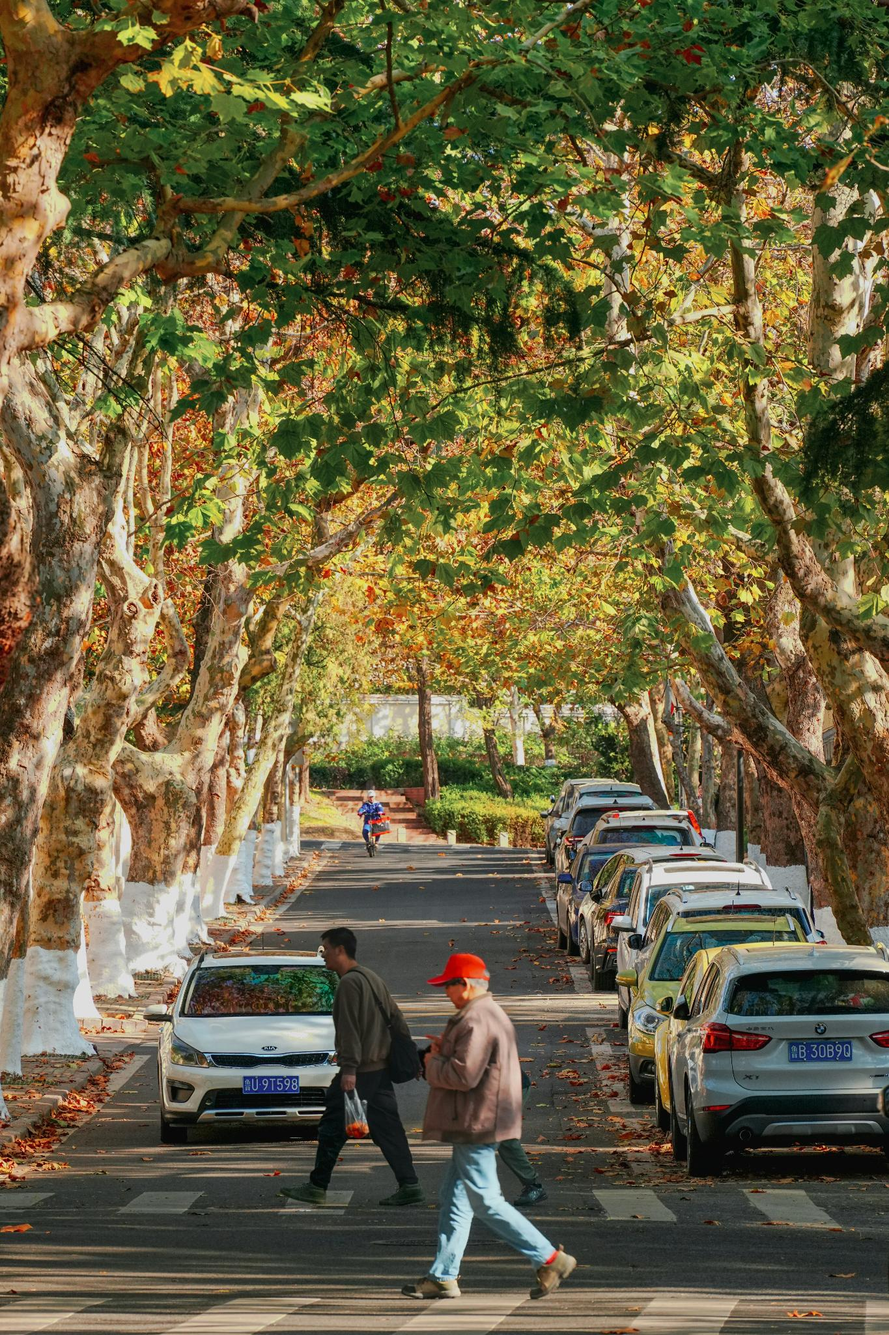car: (654, 956, 889, 1173), (167, 952, 344, 1142), (632, 920, 817, 1089), (620, 892, 817, 1004), (558, 840, 719, 956), (551, 780, 641, 848), (574, 787, 664, 840)
pedestrian: (411, 977, 549, 1309), (278, 929, 418, 1204), (359, 792, 395, 856)
